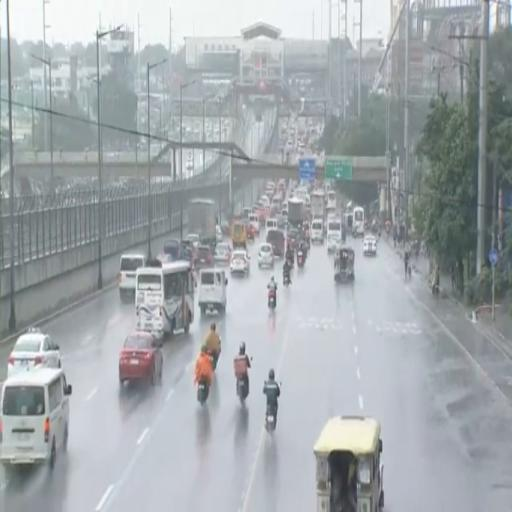bus: (136, 261, 193, 337), (352, 206, 365, 236), (327, 217, 341, 237), (326, 190, 336, 211)
car: (0, 368, 71, 478), (8, 328, 61, 376), (119, 331, 163, 386), (119, 254, 146, 302), (230, 250, 250, 276), (195, 246, 214, 268), (164, 239, 181, 261), (214, 243, 231, 264), (258, 244, 273, 267), (312, 219, 324, 244), (327, 232, 341, 252), (363, 236, 377, 256), (243, 220, 255, 241), (249, 214, 260, 235), (186, 234, 200, 248), (221, 220, 230, 235), (216, 226, 223, 243), (186, 154, 193, 170)
jeepney: (314, 416, 384, 511)
motorcycle: (237, 368, 248, 404), (197, 380, 209, 406), (265, 405, 276, 433), (209, 347, 220, 371), (268, 290, 275, 310), (286, 253, 294, 268), (297, 250, 304, 267), (432, 283, 439, 298), (283, 272, 290, 286)
truck: (188, 199, 217, 247), (288, 198, 304, 228), (310, 189, 325, 220)
